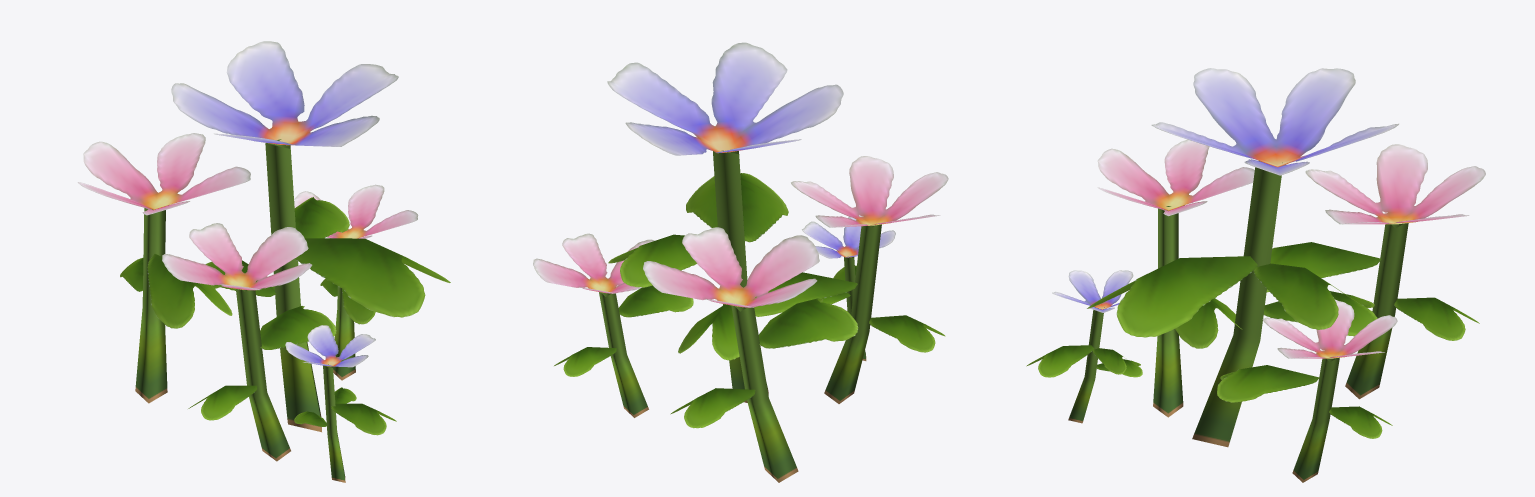
Rendered from Flower_01.FBX.
3 renders of one model, left to right at view 1: azimuth 30°, elevation 25°; view 2: azimuth 150°, elevation 25°; view 3: azimuth 270°, elevation 25°, orthographic. The views are drawn at different scales.
Visible parts, largest first — view 1: flower_01; view 2: flower_01; view 3: flower_01.
Boxes of the visible parts, x1,y1,x2,y2 form: flower_01: [77, 41, 450, 482]; flower_01: [533, 42, 948, 482]; flower_01: [1026, 68, 1485, 482].
Size of the model in its own units: 23.71 by 20.04 by 26.84.
